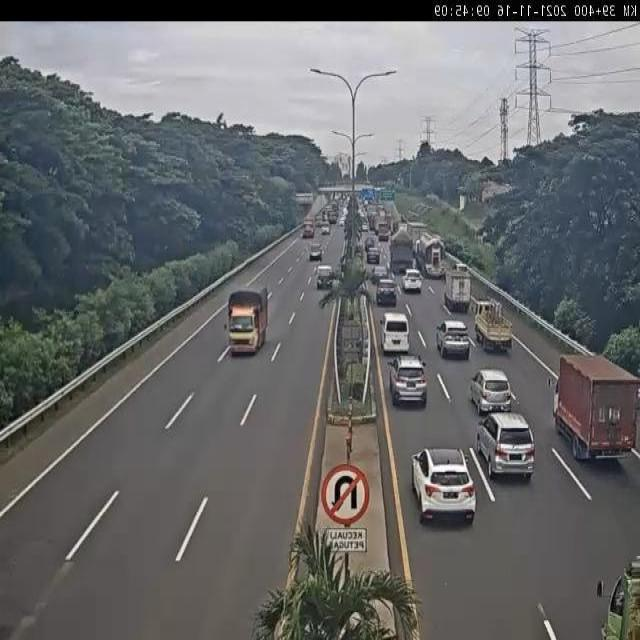Car: (410, 447, 477, 526), (476, 411, 536, 479), (388, 353, 428, 406), (469, 368, 513, 414), (436, 319, 470, 359), (376, 278, 398, 306), (402, 268, 423, 293), (371, 265, 388, 285), (366, 244, 380, 264), (309, 242, 323, 260), (452, 262, 470, 274), (364, 235, 376, 250), (321, 225, 330, 235), (361, 223, 368, 232), (339, 218, 345, 227)
Truck: (548, 353, 640, 461), (595, 554, 640, 640), (222, 284, 268, 357), (471, 297, 514, 352), (415, 233, 445, 279), (389, 226, 415, 273), (444, 269, 471, 313), (406, 221, 428, 247), (316, 264, 335, 290), (301, 216, 315, 238), (378, 220, 390, 242), (327, 209, 338, 225)
Van: (381, 312, 411, 354)
